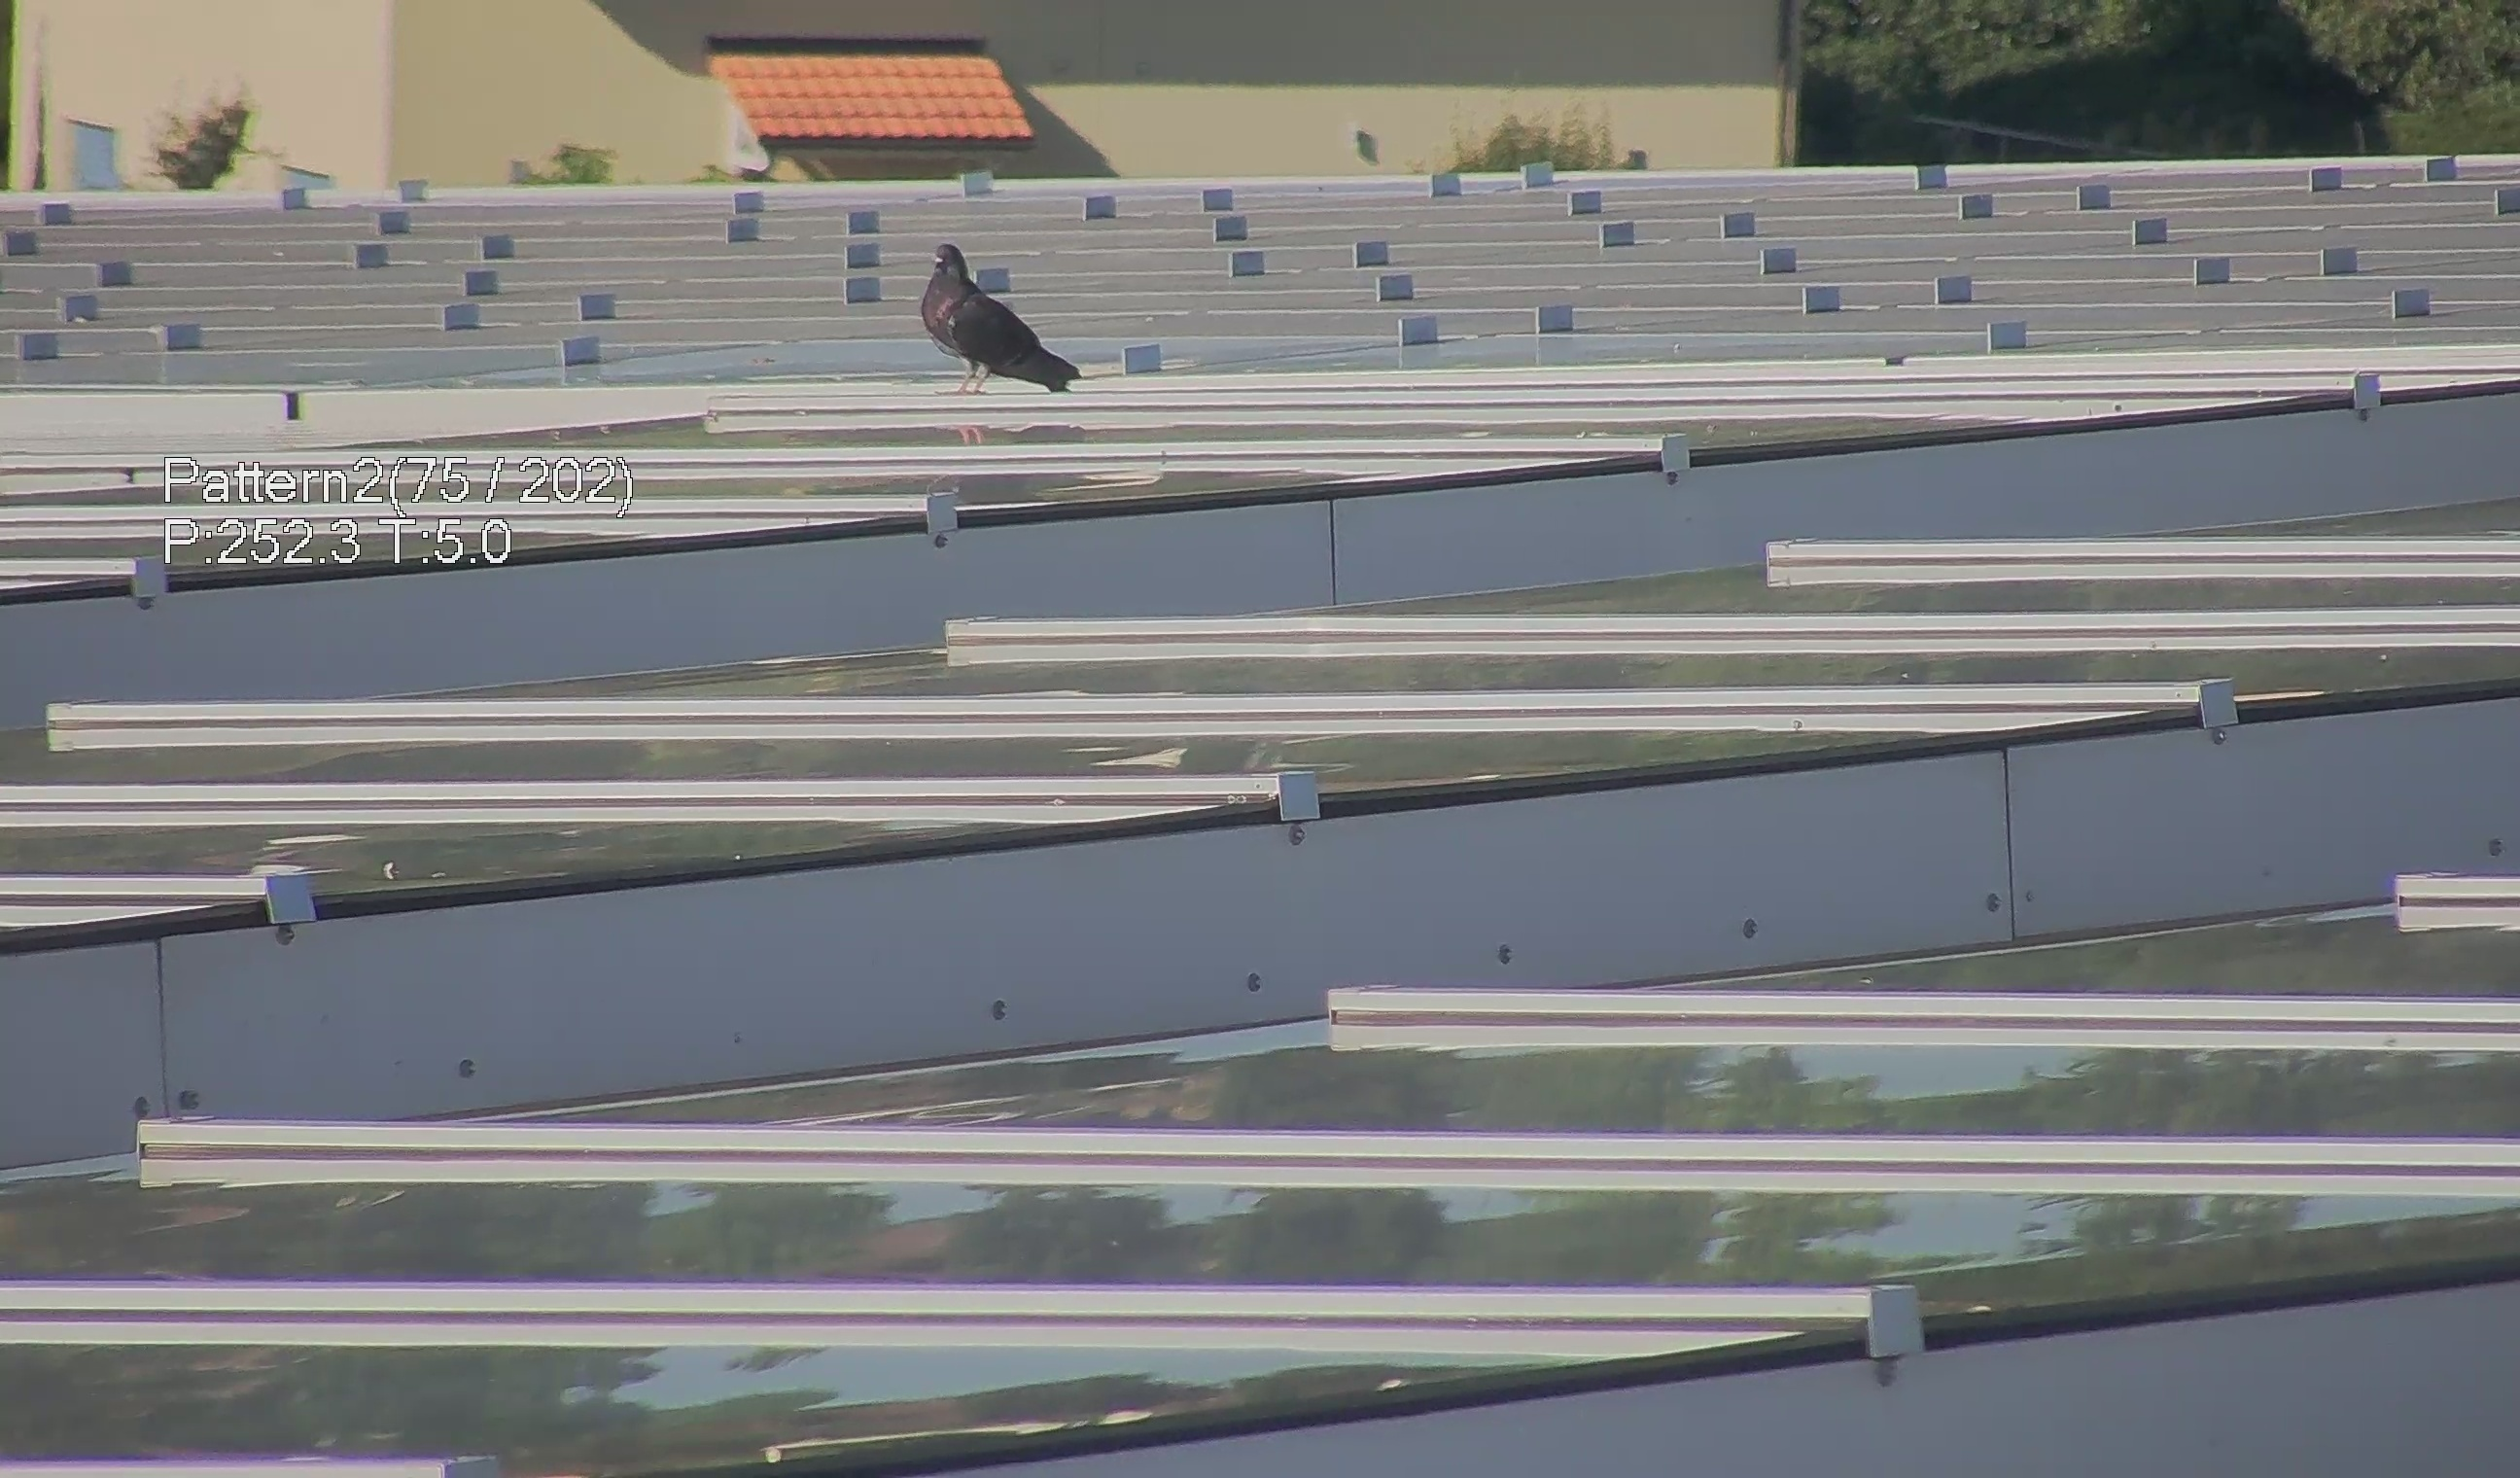Pigeon: (906, 234, 1085, 399)
